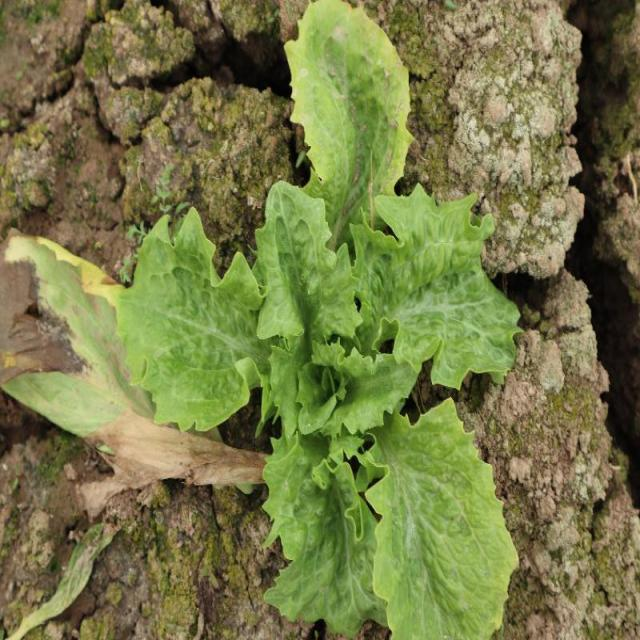crop: (116, 3, 525, 640)
